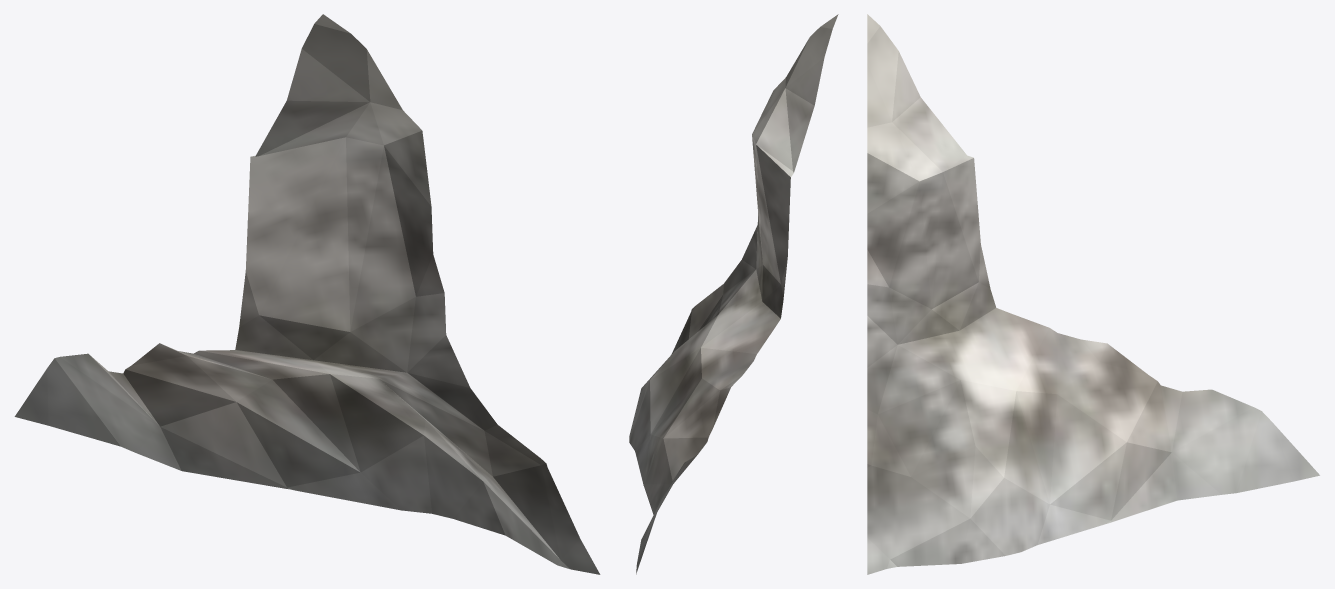
3 renders of one model, left to right at view 1: azimuth 30°, elevation 25°; view 2: azimuth 150°, elevation 25°; view 3: azimuth 270°, elevation 25°, orthographic. The views are drawn at different scales.
Size of the model in its own units: 0.4571 by 0.9898 by 0.8807.
Materials: 1 (1 with a texture image).
